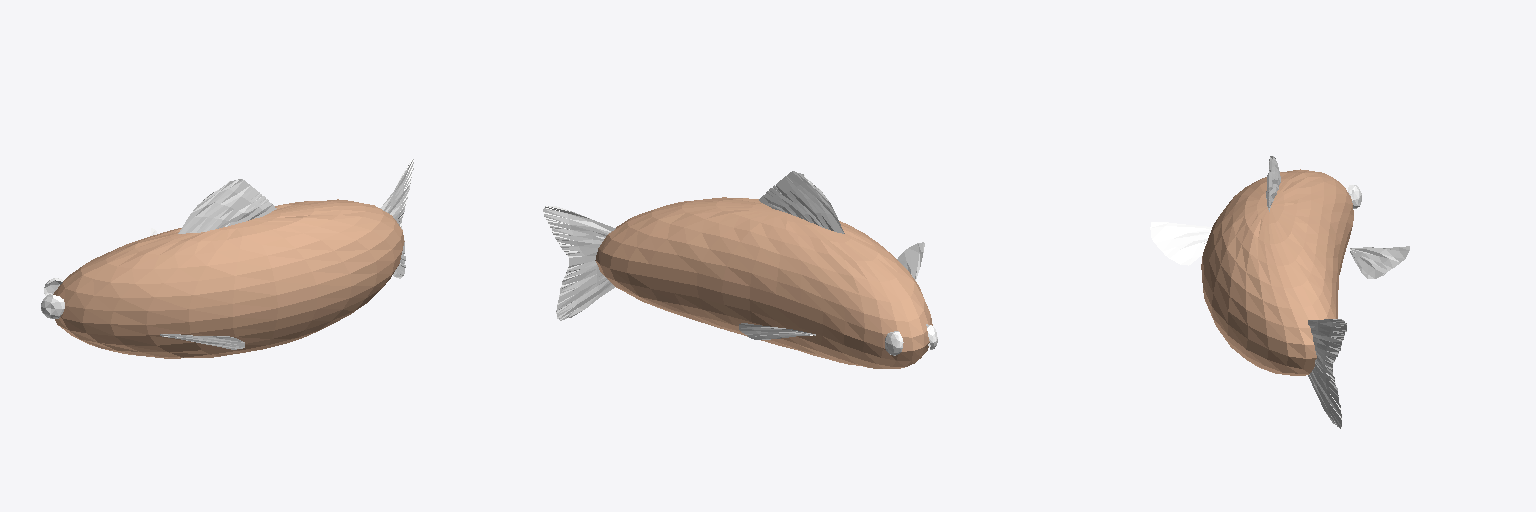
File: fishL.obj
The picture shows the model from 3 angles: view 1: azimuth 30°, elevation 25°; view 2: azimuth 150°, elevation 25°; view 3: azimuth 270°, elevation 25°; orthographic projection.
Visible parts, largest first — view 1: Sphere001, object2, object9, object4; view 2: Sphere001, object9, object2, object5, object4; view 3: Sphere001, object9, object4, object5.
Boxes of the visible parts, box(x1,y1,x2,y2) form: Sphere001: box(53, 199, 404, 358); object2: box(178, 179, 276, 233); object9: box(380, 159, 413, 278); object4: box(160, 334, 244, 349); Sphere001: box(595, 197, 932, 368); object9: box(543, 206, 615, 320); object2: box(759, 171, 844, 233); object5: box(739, 323, 815, 339); object4: box(897, 242, 924, 280); Sphere001: box(1201, 169, 1353, 375); object9: box(1308, 319, 1346, 428); object4: box(1150, 222, 1211, 265); object5: box(1350, 246, 1409, 278).
Size of the model in its own units: 2.95 by 1.26 by 1.73.